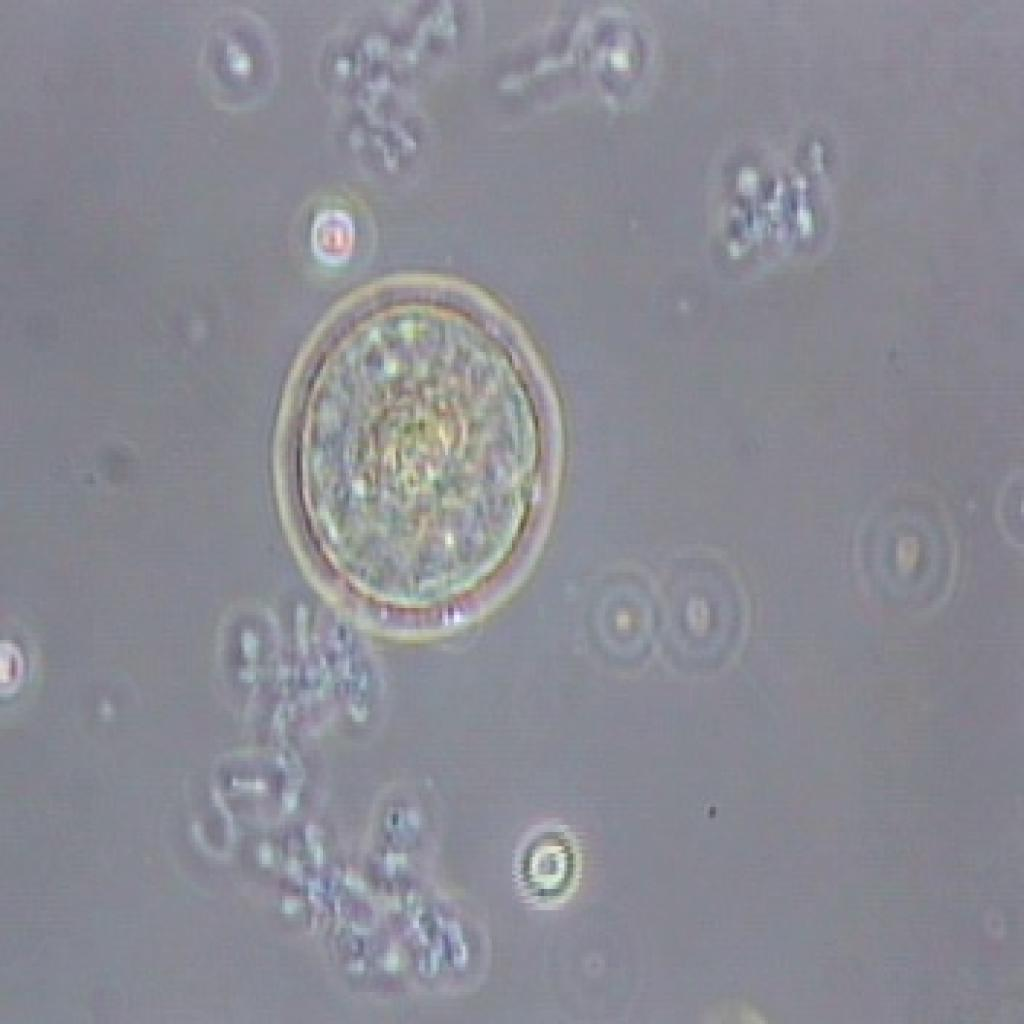Arcella: (269, 263, 572, 651)
